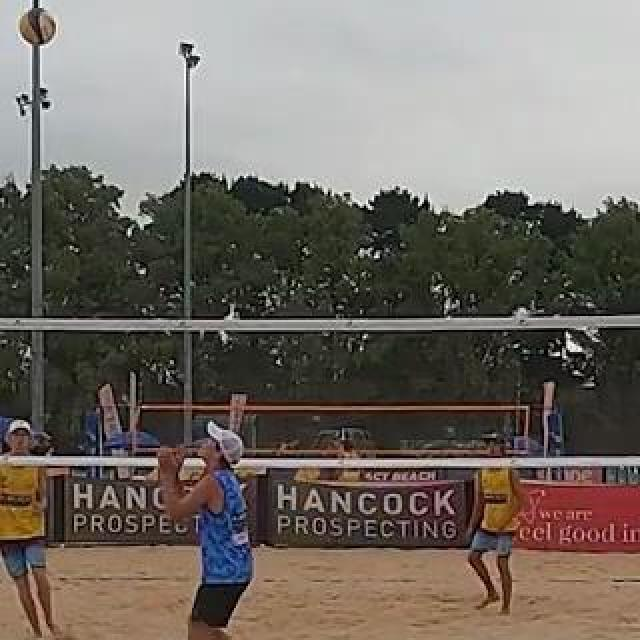volleyball: (18, 9, 58, 47)
